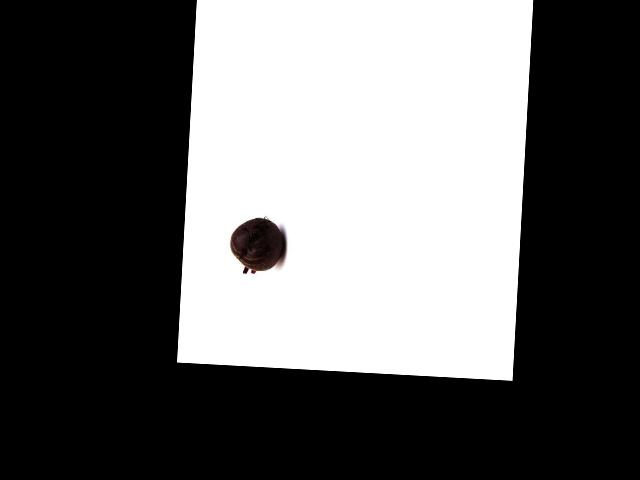beet: (228, 215, 286, 274)
